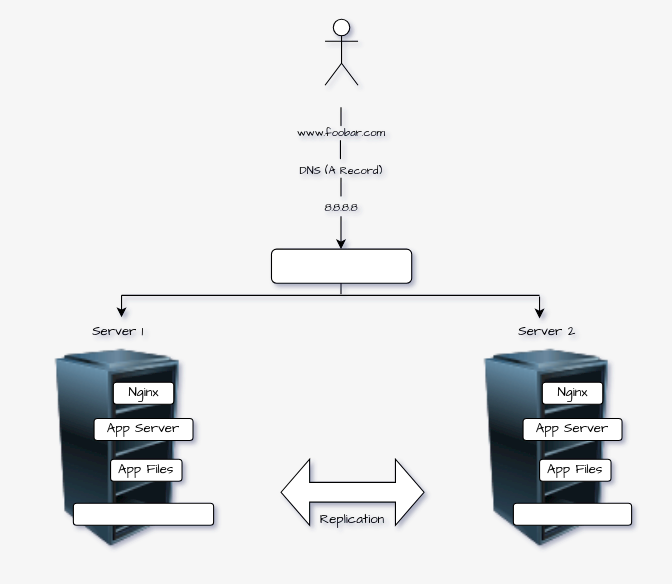
Image size: 672x584. Some labels were removed from this diagram. Each missing label, with the centre of its shape:
"HAProxy (LB)" belongs at [341,265].
"MySQL (Primary)" belongs at [143,513].
"MySQL (Replica)" belongs at [572,513].
"User" belongs at [341,51].
